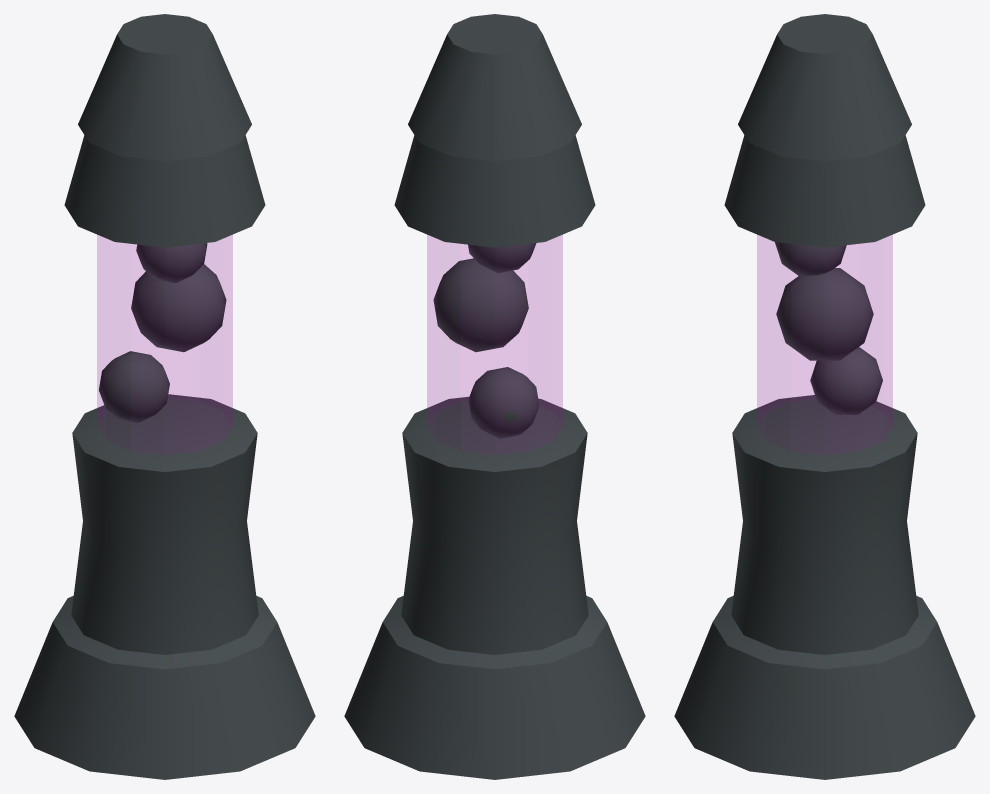
Rendered from Lava Lamp.fbx.
3 views of the same model, side by side, from view 1: azimuth 30°, elevation 25°; view 2: azimuth 150°, elevation 25°; view 3: azimuth 270°, elevation 25° (orthographic).
Visible parts, largest first — view 1: Lava Lamp; view 2: Lava Lamp; view 3: Lava Lamp.
Part boxes in pixels (bbox=[...]): Lava Lamp: bbox=[14, 14, 315, 779]; Lava Lamp: bbox=[344, 14, 645, 779]; Lava Lamp: bbox=[674, 14, 975, 779].
Size of the model in its own units: 25.79 by 64.42 by 25.79.
